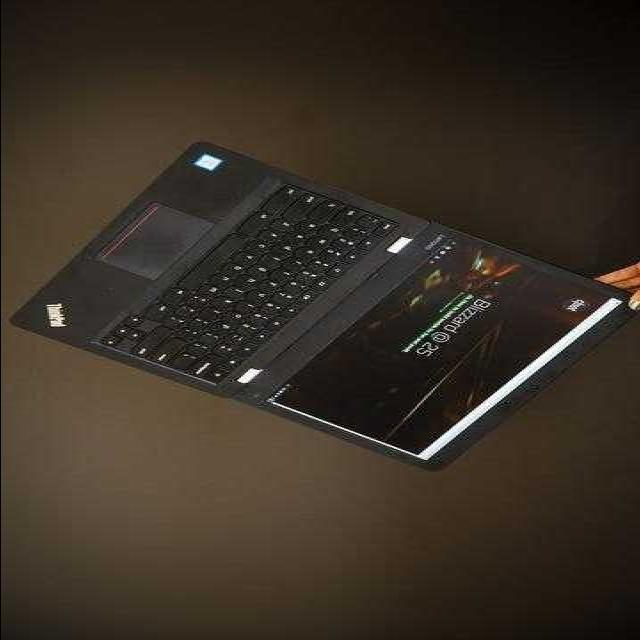laptop: (36, 165, 634, 451)
